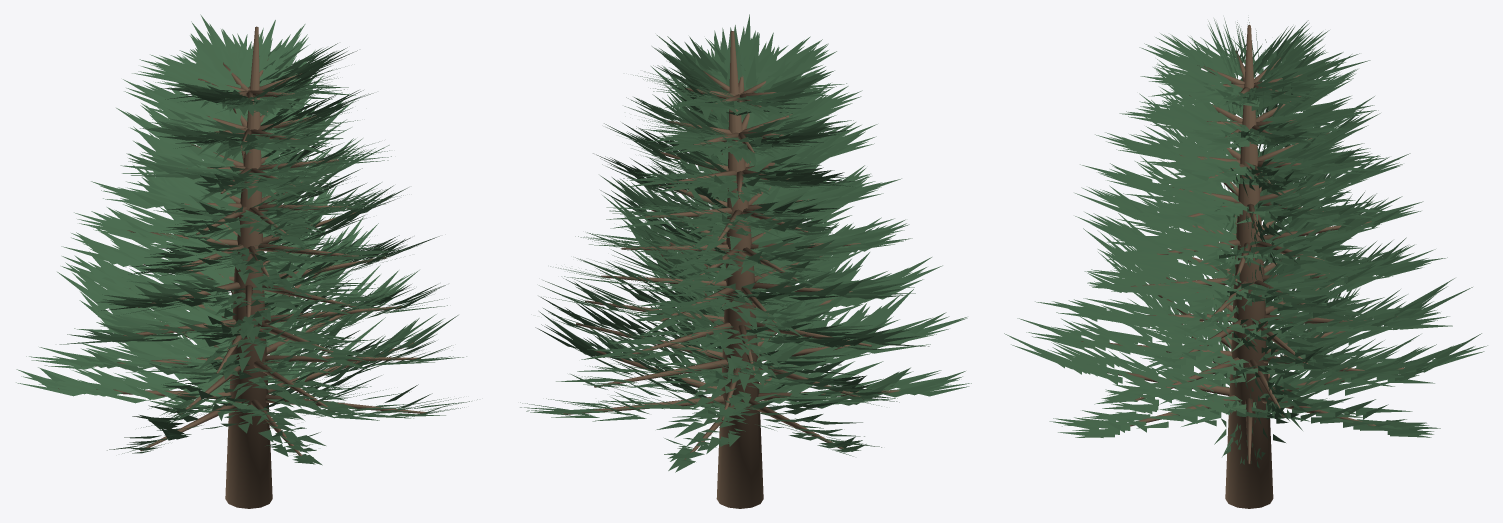
Rendered from forest-tree.glb.
The picture shows the model from 3 angles, left to right: view 1: azimuth 30°, elevation 25°; view 2: azimuth 150°, elevation 25°; view 3: azimuth 270°, elevation 25°; orthographic projection. The views are drawn at different scales.
Parts seen in each view (by area): view 1: NeedleBranches, TaperedTrunk, Bough.007, Bough.020; view 2: NeedleBranches, TaperedTrunk, Bough.012, Bough.006; view 3: NeedleBranches, TaperedTrunk.
Boxes of the visible parts, bbox=[...] form: NeedleBranches: bbox=[16, 14, 477, 465]; TaperedTrunk: bbox=[225, 26, 272, 508]; Bough.007: bbox=[265, 355, 420, 362]; Bough.020: bbox=[264, 306, 406, 323]; NeedleBranches: bbox=[520, 14, 971, 472]; TaperedTrunk: bbox=[716, 31, 763, 508]; Bough.012: bbox=[594, 359, 727, 387]; Bough.006: bbox=[563, 395, 724, 414]; NeedleBranches: bbox=[1004, 17, 1487, 468]; TaperedTrunk: bbox=[1225, 25, 1273, 508].
Bounding box in the file's own units: 4.12 × 4.6 × 4.25.
